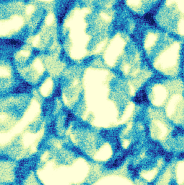hole_empty: (147, 79, 170, 111), (38, 77, 57, 99)
hole_filled: (59, 67, 134, 126), (1, 89, 49, 161), (33, 138, 94, 183), (61, 7, 109, 64), (141, 23, 183, 77), (10, 46, 49, 87)
